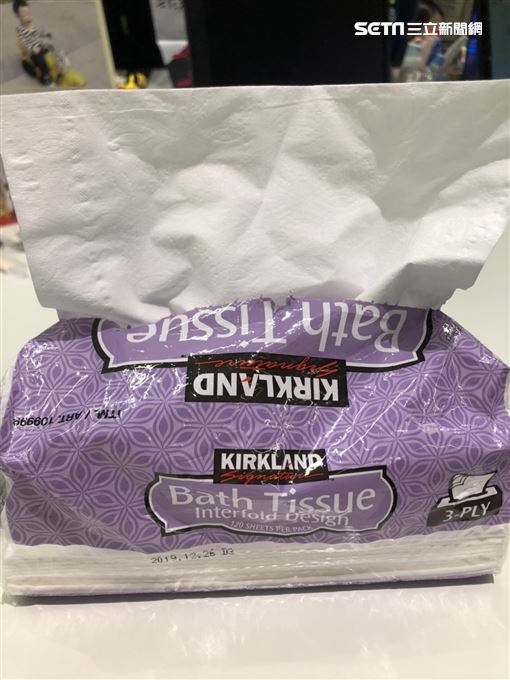tissue: (3, 91, 507, 586)
